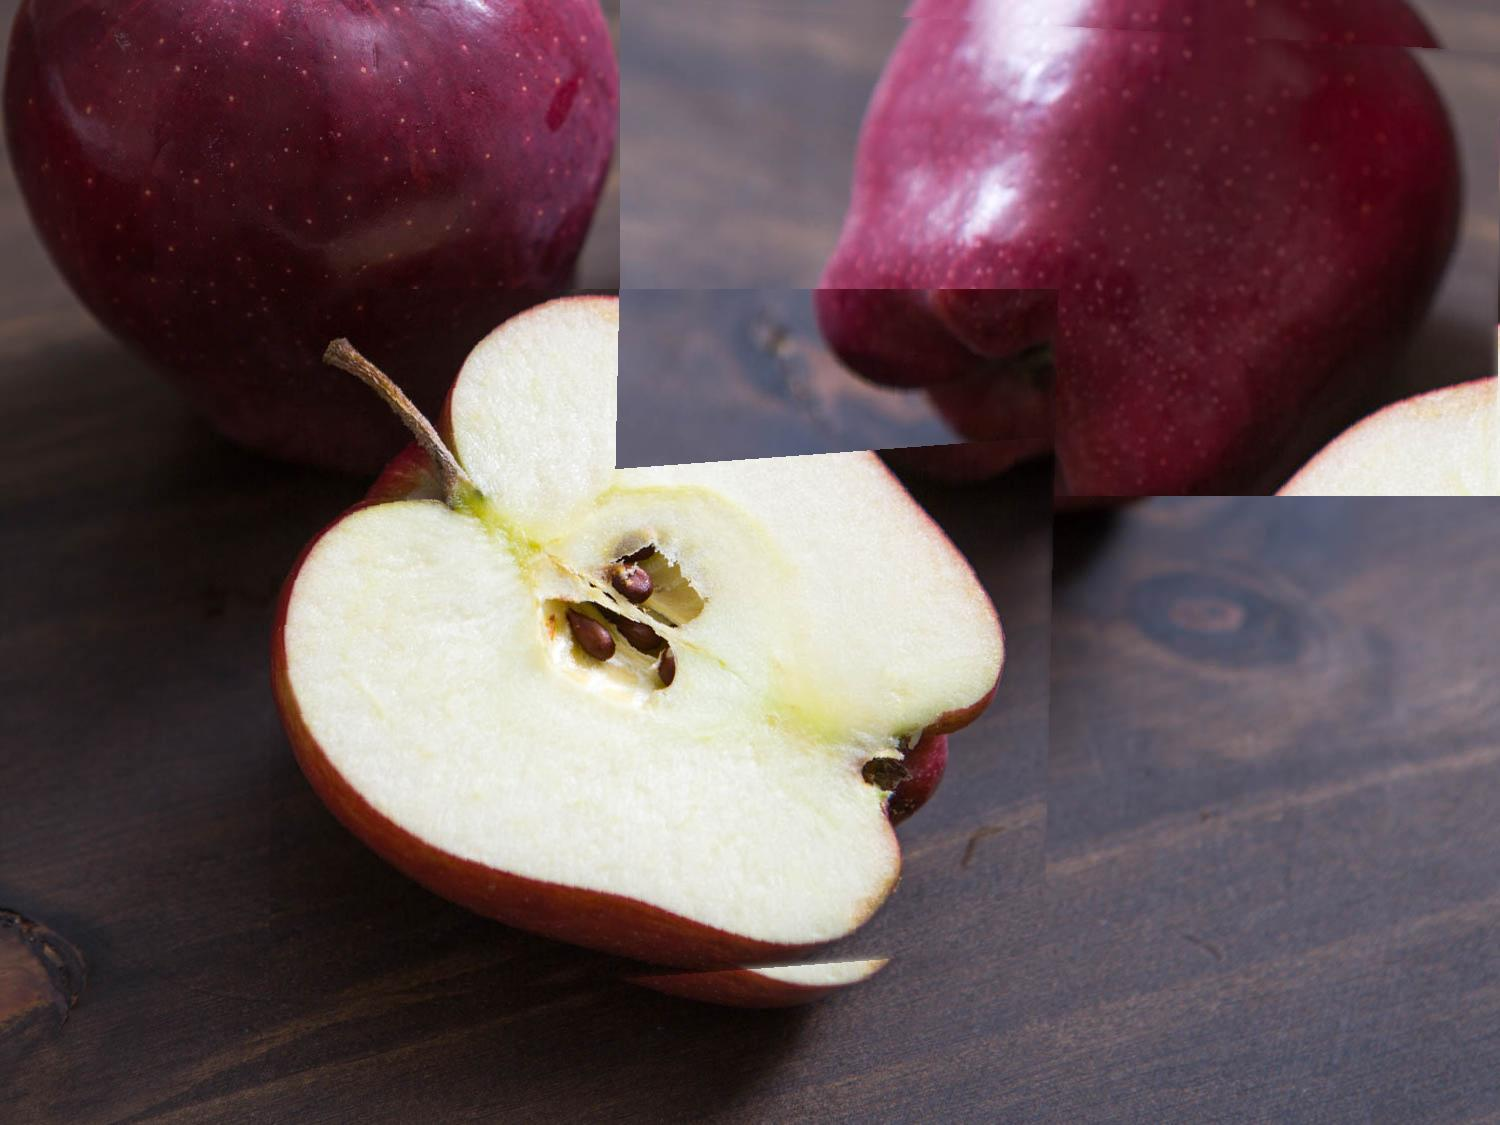Apple Fresh: (270, 290, 1059, 1007), (620, 0, 1500, 496)
